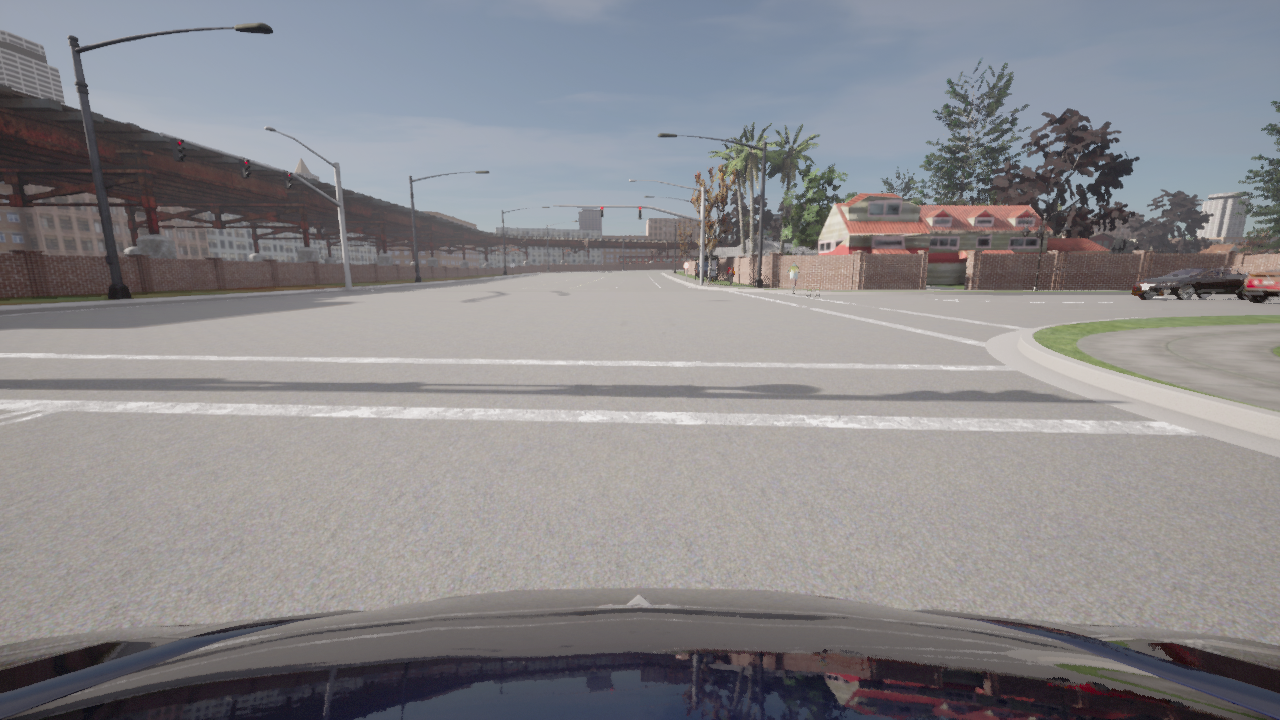cyclist: (0, 588, 1279, 719), (1133, 267, 1249, 300), (1243, 268, 1279, 303)
pedestrian: (785, 260, 800, 294), (726, 263, 735, 286)
